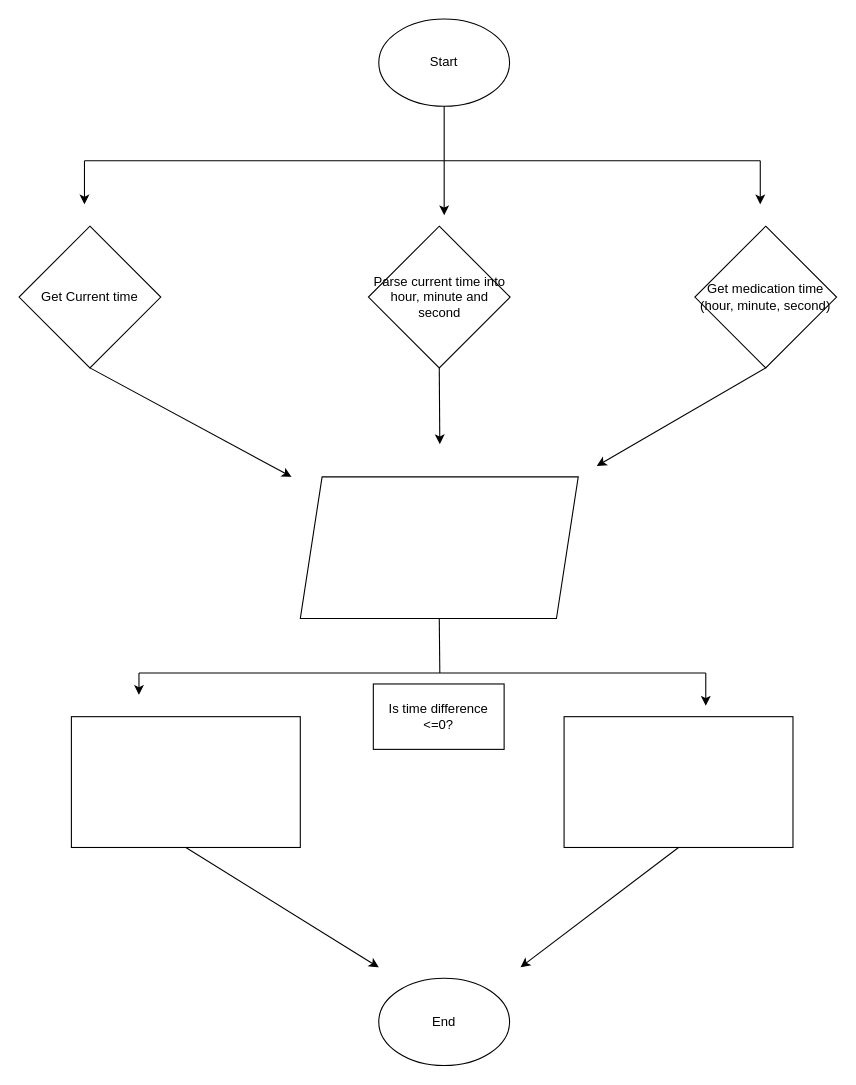
This 856x1085 diagram has some shape labels left out. Each missing label, with the centre of its shape:
Calculate time difference in seconds between current time and medication time: (x=438, y=547)
if no, display "you have x seconds until your medication": (x=678, y=781)
if yes, display "it's time to take your medication": (x=185, y=781)
